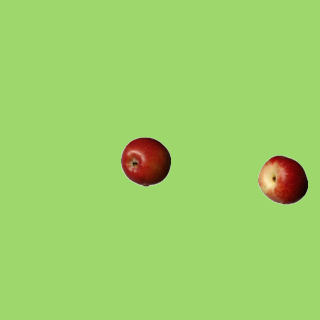Apple Braeburn: (120, 136, 170, 186)
Nectarine: (257, 154, 307, 204)
